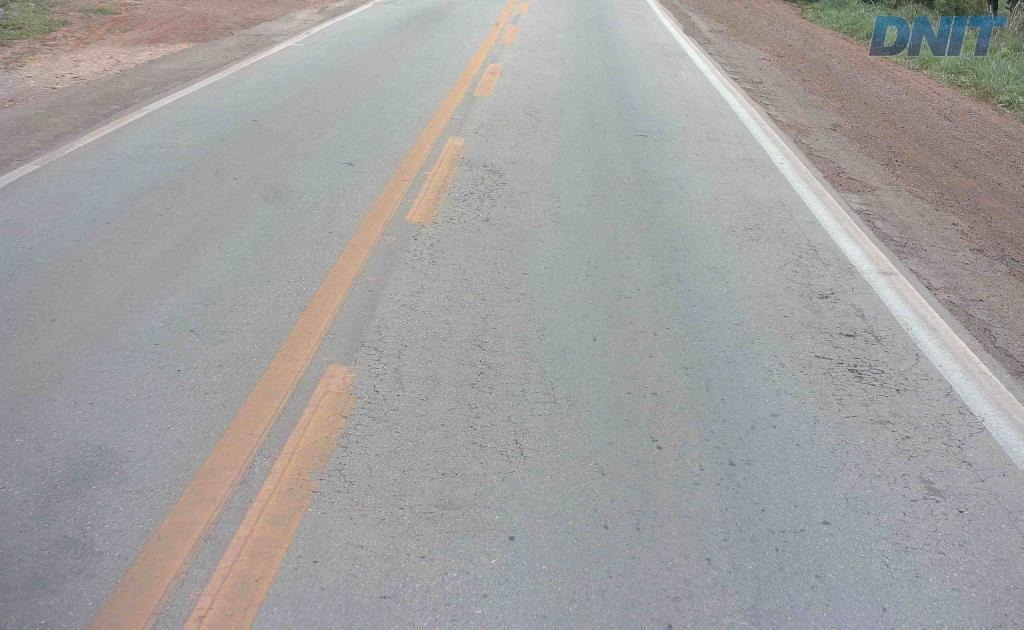crack: (835, 355, 889, 389)
